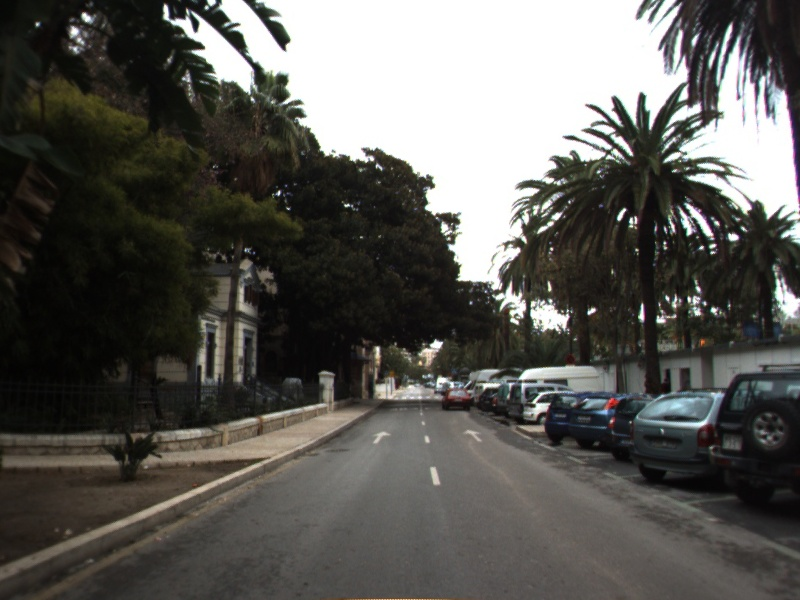STRAIGHT: (460, 427, 484, 443), (370, 430, 393, 445)
